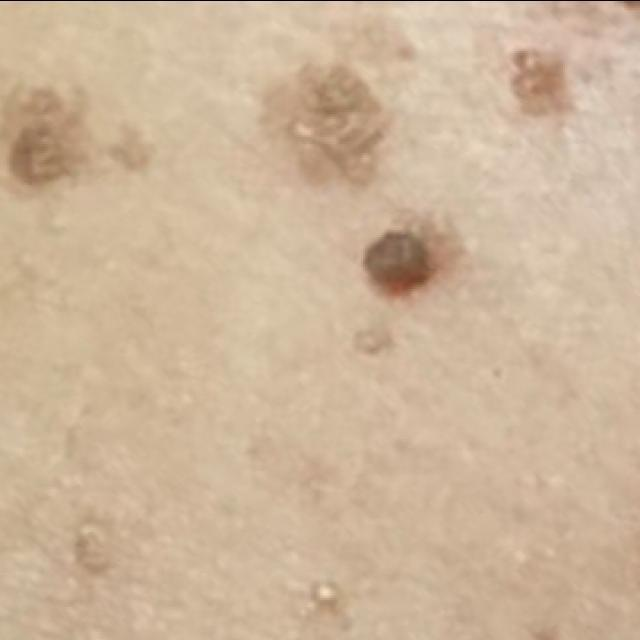wart: (0, 86, 148, 211), (280, 82, 384, 180), (360, 227, 442, 295), (502, 48, 560, 130), (309, 579, 345, 606)
